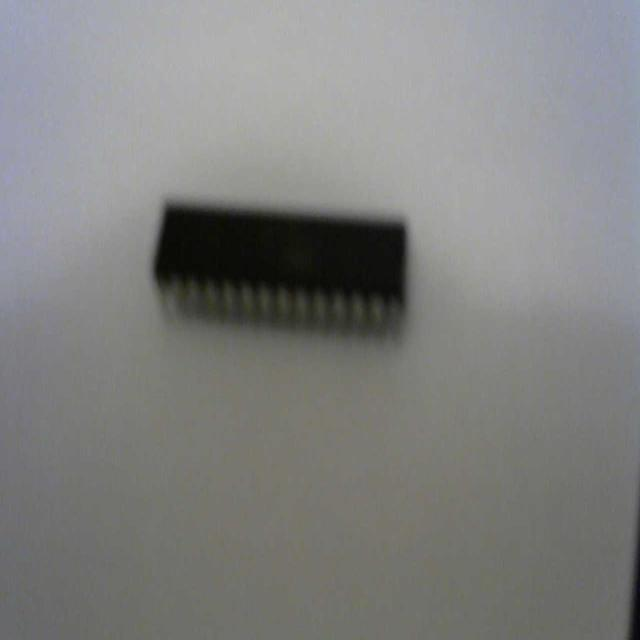atmega: (150, 192, 410, 343)
